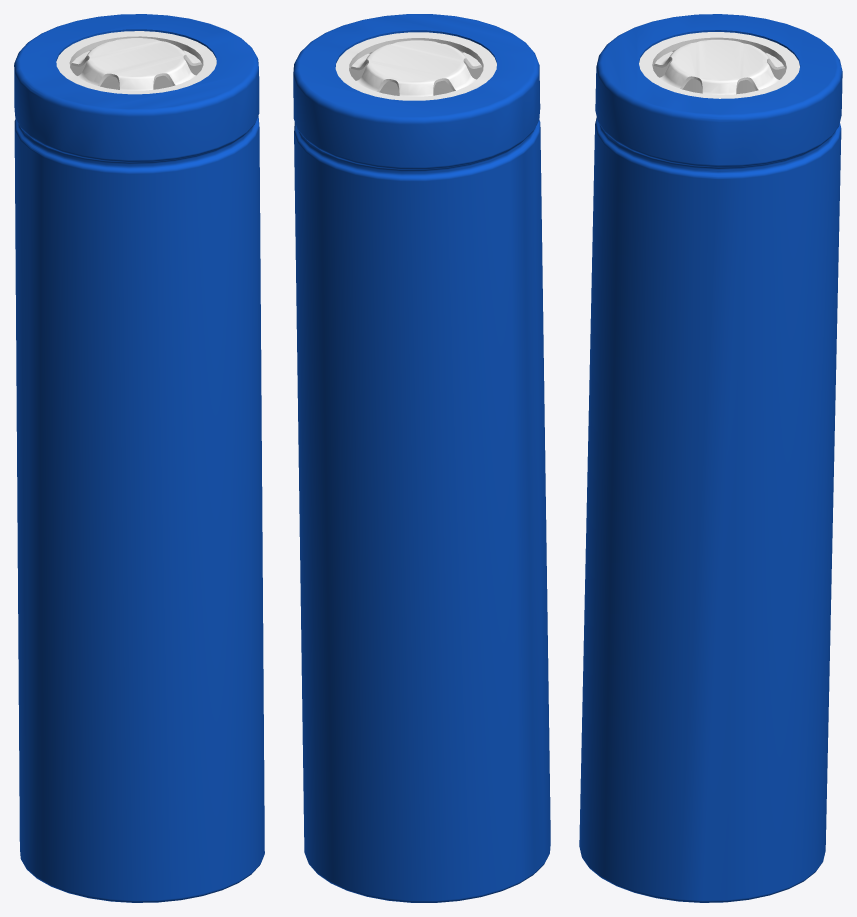
The model's file is Batteryglb.gltf.
3 renders of one model, left to right at view 1: azimuth 30°, elevation 25°; view 2: azimuth 150°, elevation 25°; view 3: azimuth 270°, elevation 25°, orthographic.
Parts seen in each view (by area): view 1: Battery_Shield_v20:_Component2:1:_Placa:1:_Body2.001_Default, Battery_Shield_v20:_Component2:1:_Placa:1:_Body2.001_Materia, Battery_Shield_v20:_Component2:1:_Placa:1:_Body2.001_Materi., Battery_Shield_v20:_Component2:1:_Placa:1:_Body2.001_Materi; view 2: Battery_Shield_v20:_Component2:1:_Placa:1:_Body2.001_Default, Battery_Shield_v20:_Component2:1:_Placa:1:_Body2.001_Materia, Battery_Shield_v20:_Component2:1:_Placa:1:_Body2.001_Materi., Battery_Shield_v20:_Component2:1:_Placa:1:_Body2.001_Materi; view 3: Battery_Shield_v20:_Component2:1:_Placa:1:_Body2.001_Default, Battery_Shield_v20:_Component2:1:_Placa:1:_Body2.001_Materia, Battery_Shield_v20:_Component2:1:_Placa:1:_Body2.001_Materi., Battery_Shield_v20:_Component2:1:_Placa:1:_Body2.001_Materi.
Boxes of the visible parts, x1,y1,x2,y2 form: Battery_Shield_v20:_Component2:1:_Placa:1:_Body2.001_Default: [14, 14, 264, 902]; Battery_Shield_v20:_Component2:1:_Placa:1:_Body2.001_Materia: [71, 38, 201, 90]; Battery_Shield_v20:_Component2:1:_Placa:1:_Body2.001_Materi.: [56, 31, 216, 94]; Battery_Shield_v20:_Component2:1:_Placa:1:_Body2.001_Materi: [70, 49, 202, 89]; Battery_Shield_v20:_Component2:1:_Placa:1:_Body2.001_Default: [293, 14, 550, 902]; Battery_Shield_v20:_Component2:1:_Placa:1:_Body2.001_Materia: [350, 40, 481, 96]; Battery_Shield_v20:_Component2:1:_Placa:1:_Body2.001_Materi.: [335, 32, 496, 100]; Battery_Shield_v20:_Component2:1:_Placa:1:_Body2.001_Materi: [349, 50, 483, 95]; Battery_Shield_v20:_Component2:1:_Placa:1:_Body2.001_Default: [579, 14, 842, 902]; Battery_Shield_v20:_Component2:1:_Placa:1:_Body2.001_Materia: [653, 39, 784, 94]; Battery_Shield_v20:_Component2:1:_Placa:1:_Body2.001_Materi.: [639, 32, 799, 98]; Battery_Shield_v20:_Component2:1:_Placa:1:_Body2.001_Materi: [653, 50, 785, 94].
Size of the model in its own units: 0.4676 by 1.65 by 0.4934.
